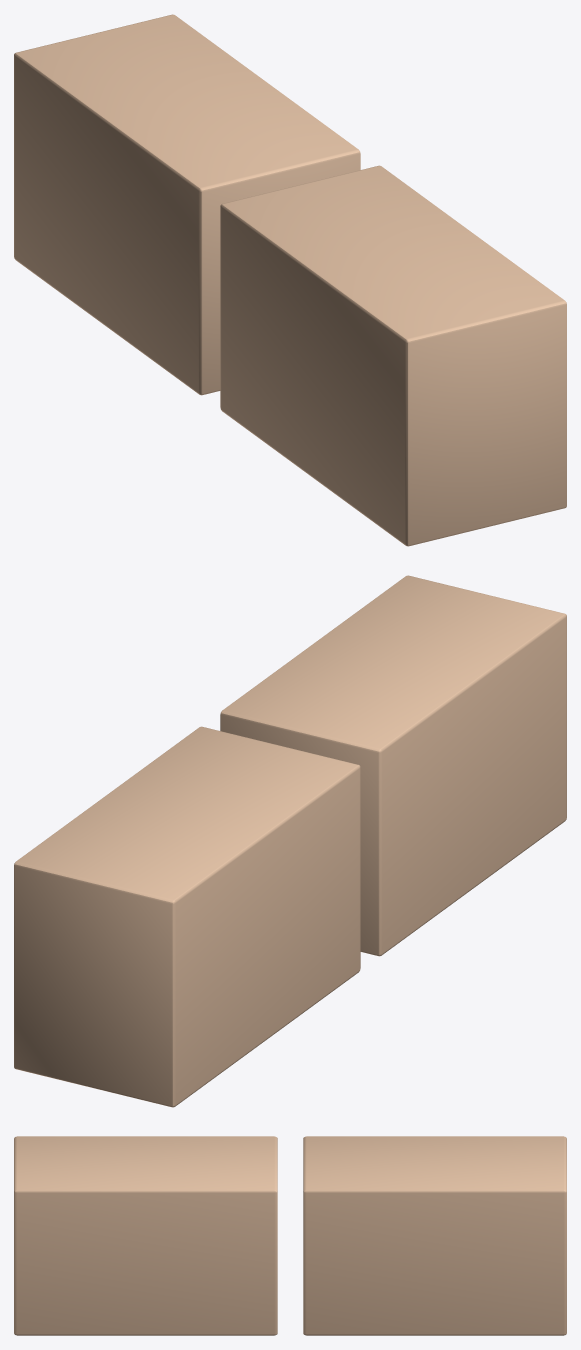
The picture shows the model from 3 angles, top to bottom: view 1: azimuth 30°, elevation 25°; view 2: azimuth 150°, elevation 25°; view 3: azimuth 270°, elevation 25°; orthographic projection. The views are drawn at different scales.
Parts seen in each view (by area): view 1: Cube.005; view 2: Cube.005; view 3: Cube.005.
Part boxes in pixels (box(x1,y1,x2,y2)): Cube.005: box(14, 14, 566, 546); Cube.005: box(14, 575, 566, 1107); Cube.005: box(14, 1136, 566, 1335).
Size of the model in its own units: 54.04 by 66.55 by 230.
